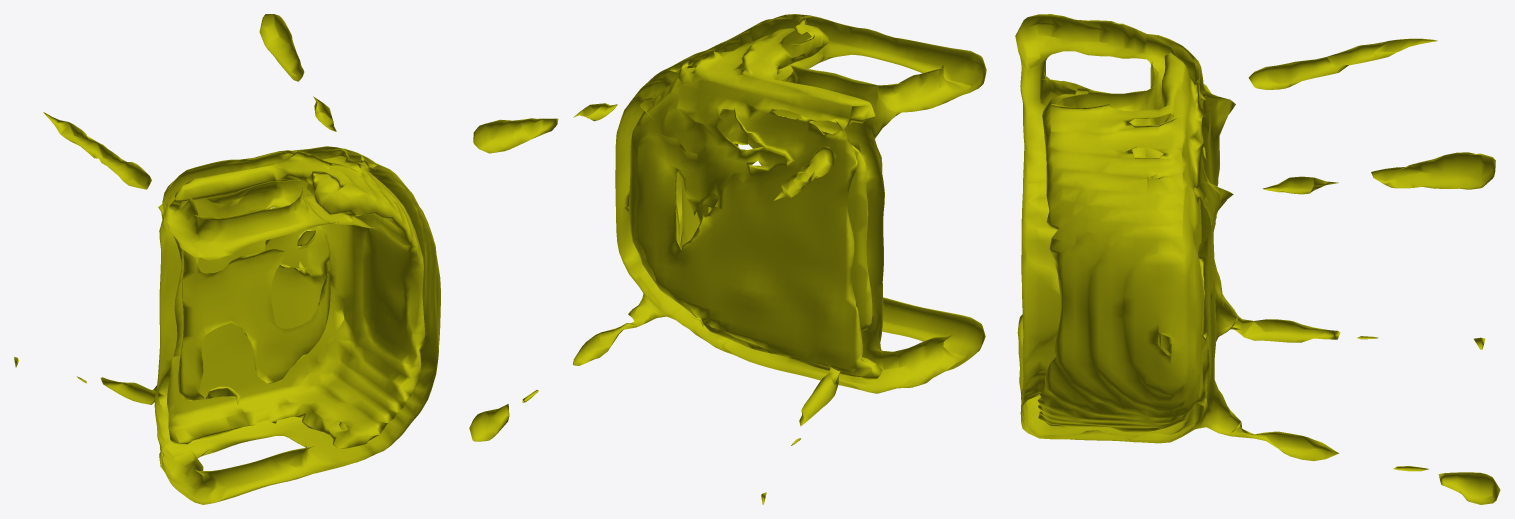
3 renders of one model, left to right at view 1: azimuth 30°, elevation 25°; view 2: azimuth 150°, elevation 25°; view 3: azimuth 270°, elevation 25°, orthographic. The views are drawn at different scales.
Visible parts, largest first — view 1: world; view 2: world; view 3: world.
Part boxes in pixels (x1,y1,x2,y2): world: (14, 14, 440, 504); world: (469, 14, 986, 504); world: (1015, 14, 1500, 504).
Bounding box in the file's own units: 32.94 × 32.03 × 40.67.
